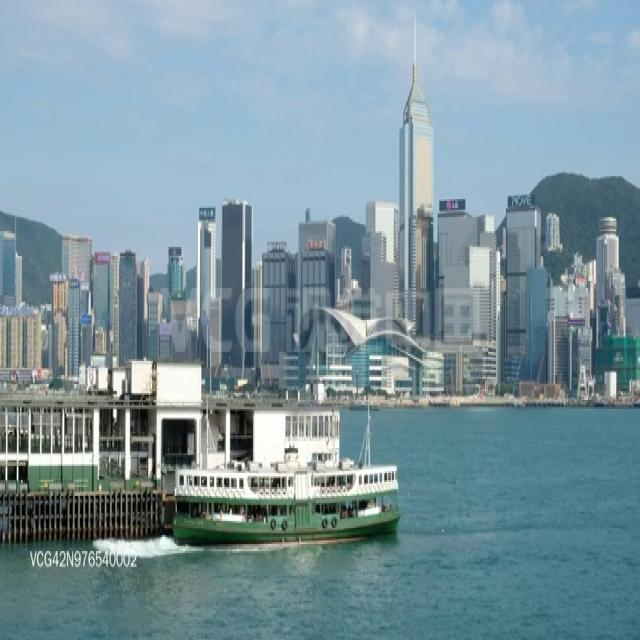passenger ship: (166, 448, 400, 552)
